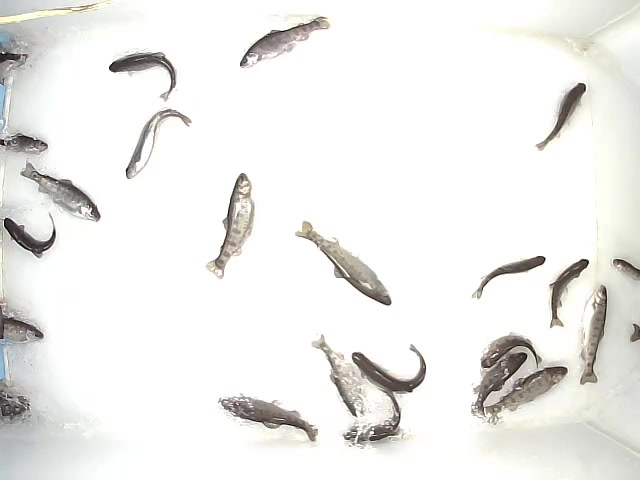fish: (292, 220, 393, 306), (202, 172, 259, 281), (310, 332, 373, 418), (233, 14, 332, 67), (482, 364, 568, 425), (18, 158, 101, 221), (123, 107, 193, 181), (215, 394, 320, 443), (466, 351, 529, 418), (106, 48, 178, 103), (532, 82, 589, 151), (351, 342, 426, 394), (341, 382, 401, 445), (468, 254, 547, 301), (578, 287, 612, 387), (545, 257, 589, 331), (1, 211, 59, 258), (478, 331, 543, 370)
